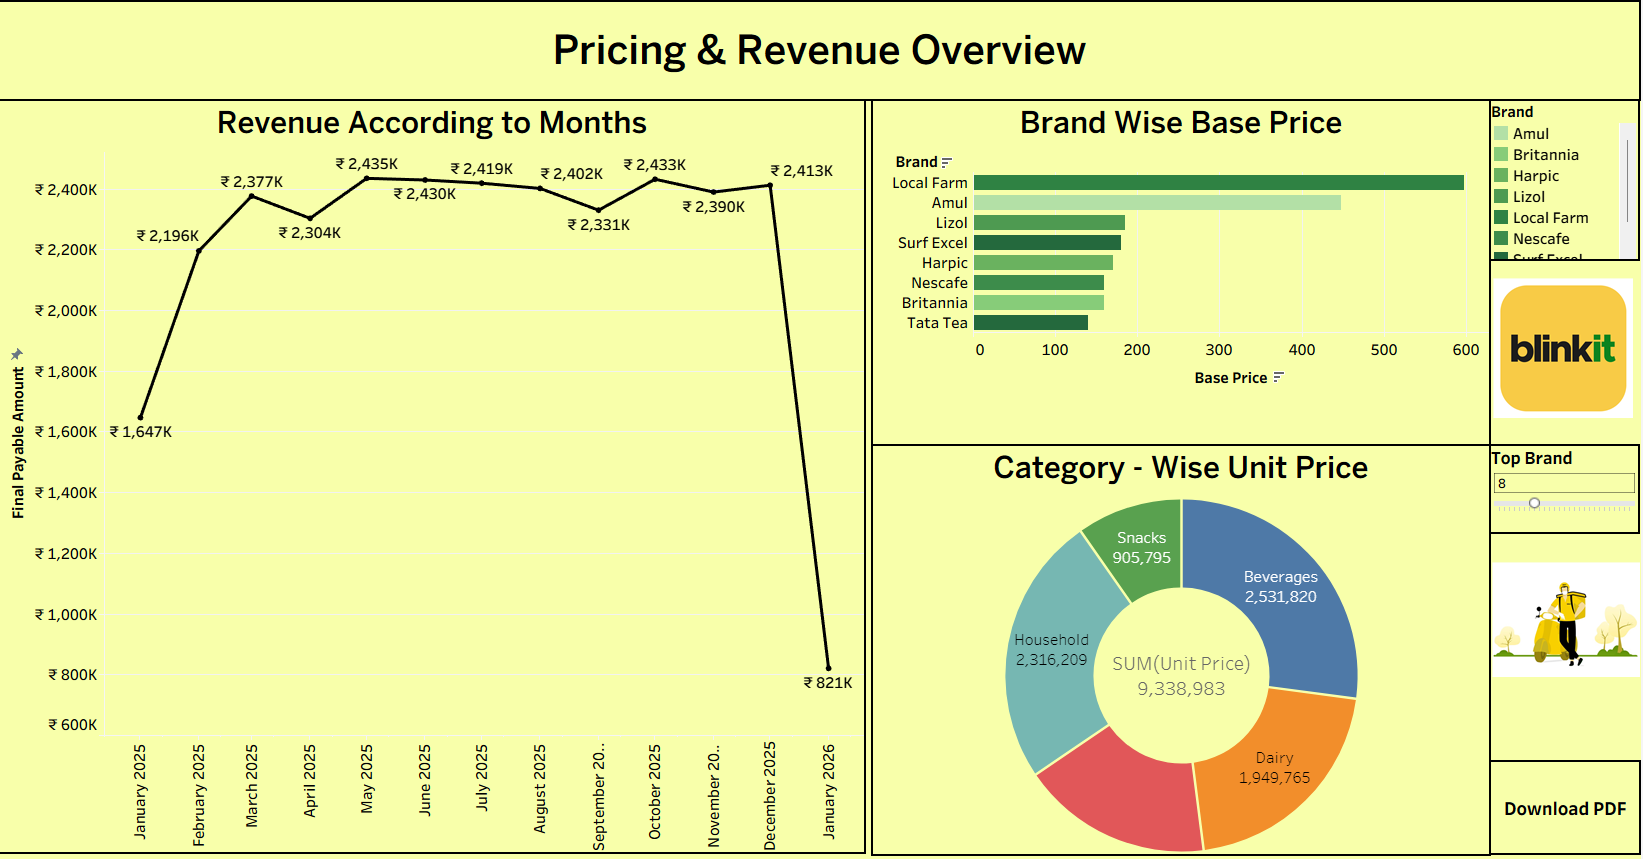

This screenshot's page, from the dashboard's own definition file:
{"tool":"tableau","page":{"name":"Pricing & Revenue Overview","canvas":[1000,1000],"units":"permille","ordinal":2},"visuals":[{"type":"text","box":[4.2,0,995.8,117.4]},{"type":"worksheet","title":"Revenue According to Months","mark":"Automatic","rows":["Final Payable Amount"],"cols":["Order Date"],"box":[4.2,115.1,526.1,877.9]},{"type":"worksheet","title":"Brand Wise Base Price","mark":"Automatic","rows":["Brand"],"cols":["Base Price"],"box":[533.3,115.1,375.8,403.5]},{"type":"legend","title":"Brand Wise Base Price","param":"[federated.1uscovc1tqehue10v8pua1d7i4ou].[none:Brand:nk]","box":[907.9,115.1,91.5,188.4]},{"type":"image","param":"Image/image.png","box":[910.3,323.3,87.9,162.8]},{"type":"worksheet","title":"Category - Wise Unit Price","box":[533.3,516.3,375.8,479.1]},{"type":"parameter","param":"[Parameters].[Parameter 3]","box":[907.9,516.3,91.5,104.7]},{"type":"image","param":"Image/image2.jpg","box":[909.7,653.5,89.7,151.2]},{"type":"dashboard-object","box":[907.9,883.7,92.1,110.5]}]}

Visuals, with their boxes on the dashboard's canvas, which has no fixed pixel size, in thousandths of its width and height (x1, y1, x2, y2). These are canvas units, not pixel positions in the 1643x859 screenshot, which may show the page scaled, cropped or inside an application window:
text: rect(4, 0, 1000, 117)
"Revenue According to Months" worksheet: rect(4, 115, 530, 993)
"Brand Wise Base Price" worksheet: rect(533, 115, 909, 519)
"Brand Wise Base Price" legend: rect(908, 115, 999, 304)
image: rect(910, 323, 998, 486)
"Category - Wise Unit Price" worksheet: rect(533, 516, 909, 995)
parameter: rect(908, 516, 999, 621)
image: rect(910, 654, 999, 805)
dashboard-object: rect(908, 884, 1000, 994)
